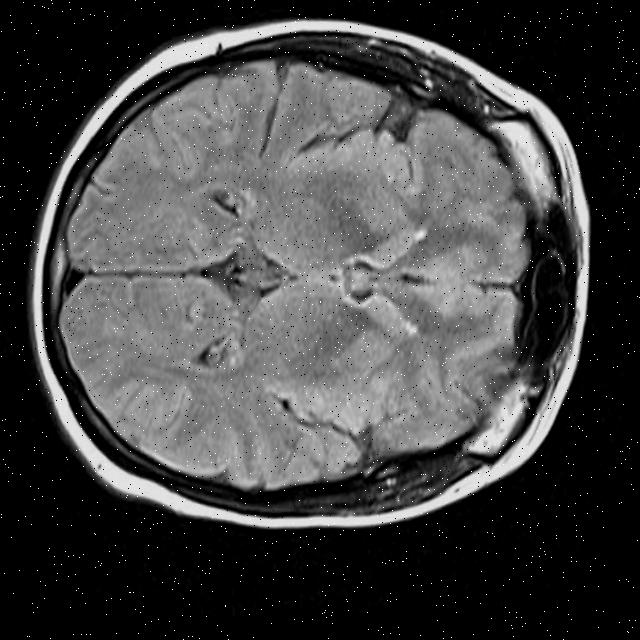NoTumor: (41, 35, 548, 511)
